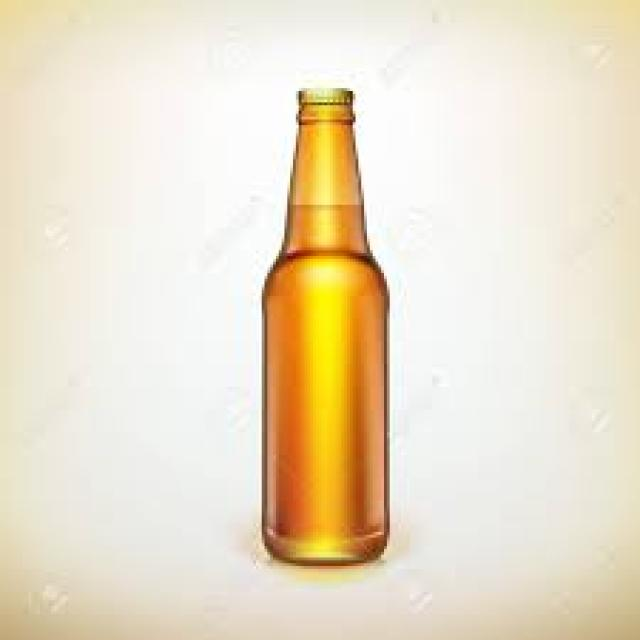glass: (262, 88, 387, 563)
